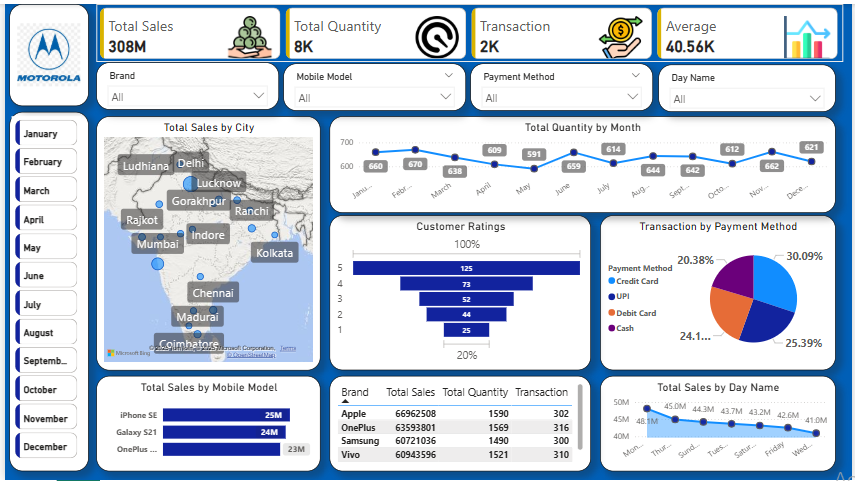

The page's visual inventory and layout, read from the dashboard file:
{"tool":"powerbi","page":{"name":"Dashboard","canvas":[1280,720],"ordinal":0},"visuals":[{"type":"shape","box":[6.7,163,119.8,543.9],"z":0},{"type":"image","box":[6.7,0,119.8,154.7],"z":1000},{"type":"cardVisual","fields":{"Data":["Sales_Data2.Total Sales","Sales_Data2.Total Quantity","Sales_Data2.Transaction","Sales_Data2.Average"]},"box":[138.1,0,1129.5,88.2],"z":2000},{"type":"map","fields":{"Size":["Sales_Data2.Total Sales"],"Category":["Sales_Data2.City"]},"box":[138.1,169.7,339.3,384.2],"z":3000},{"type":"clusteredBarChart","fields":{"Category":["Sales_Data2.Mobile Model"],"Y":["Sales_Data2.Total Sales"]},"box":[138.1,562.2,339.3,144.7],"z":4000},{"type":"pieChart","fields":{"Category":["Sales_Data2.Payment Method"],"Y":["Sales_Data2.Transaction"]},"box":[899.9,319.4,356,234.5],"z":5000},{"type":"funnel","title":" Customer Ratings","fields":{"Category":["Sales_Data2.Customer Ratings"],"Y":["CountNonNull(Sales_Data2.Customer Name)"]},"box":[490.7,319.4,395.9,234.5],"z":6000},{"type":"areaChart","fields":{"Category":["Sales_Data2.Day Name"],"Y":["Sales_Data2.Total Sales"]},"box":[899.9,562.2,356,144.7],"z":7000},{"type":"tableEx","fields":{"Values":["Sales_Data2.Brand","Sales_Data2.Total Sales","Sales_Data2.Total Quantity","Sales_Data2.Transaction"]},"box":[490.7,562.2,395.9,144.7],"z":8000},{"type":"advancedSlicerVisual","fields":{"Values":["Sales_Data2.Date.Variation.Date Hierarchy.Month"]},"box":[10,169.7,104.8,524],"z":9000},{"type":"slicer","fields":{"Values":["Sales_Data2.Brand"]},"box":[138.1,88.2,276.1,71.5],"z":10000},{"type":"lineChart","fields":{"Y":["Sales_Data2.Total Quantity"],"Category":["Sales_Data2.Date.Variation.Date Hierarchy.Month"]},"box":[490.7,169.7,765.2,146.4],"z":11000},{"type":"slicer","fields":{"Values":["Sales_Data2.Mobile Model"]},"box":[420.8,89.8,276.1,71.5],"z":12000},{"type":"slicer","fields":{"Values":["Sales_Data2.Payment Method"]},"box":[703.6,89.8,276.1,71.5],"z":13000},{"type":"slicer","fields":{"Values":["Sales_Data2.Day Name"]},"box":[988.1,91.5,267.8,71.5],"z":14000}]}

Visuals, with their boxes in screenshot pixels (x1, y1, x2, y2), scaled from the page's 1280x720 canvas onto the 855x481 screenshot:
shape: region(4, 109, 84, 472)
image: region(4, 0, 84, 103)
cardVisual - Sales_Data2.Total Sales x Sales_Data2.Total Quantity: region(92, 0, 847, 59)
map - Sales_Data2.Total Sales x Sales_Data2.City: region(92, 113, 319, 370)
clusteredBarChart - Sales_Data2.Mobile Model x Sales_Data2.Total Sales: region(92, 376, 319, 472)
pieChart - Sales_Data2.Payment Method x Sales_Data2.Transaction: region(601, 213, 839, 370)
" Customer Ratings" funnel: region(328, 213, 592, 370)
areaChart - Sales_Data2.Day Name x Sales_Data2.Total Sales: region(601, 376, 839, 472)
tableEx - Sales_Data2.Brand x Sales_Data2.Total Sales: region(328, 376, 592, 472)
advancedSlicerVisual - Sales_Data2.Date.Variation.Date Hierarchy.Month: region(7, 113, 77, 463)
slicer - Sales_Data2.Brand: region(92, 59, 277, 107)
lineChart - Sales_Data2.Total Quantity x Sales_Data2.Date.Variation.Date Hierarchy.Month: region(328, 113, 839, 211)
slicer - Sales_Data2.Mobile Model: region(281, 60, 466, 108)
slicer - Sales_Data2.Payment Method: region(470, 60, 654, 108)
slicer - Sales_Data2.Day Name: region(660, 61, 839, 109)
